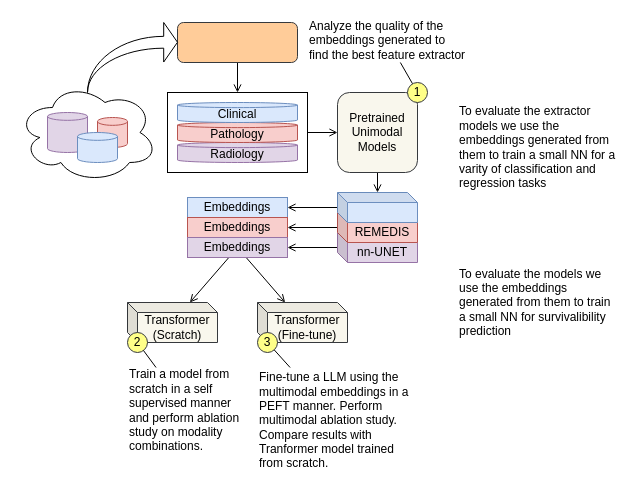
This 635x489 diagram has some shape labels left out. Here are the shapes that lost their labels. From the top down, the centre of each, then its label:
(237,42): Data Aggregator
(377,207): GatorTron
